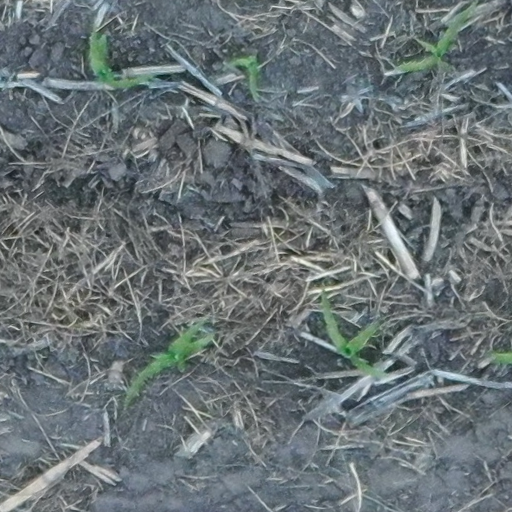planta: (126, 315, 214, 396), (319, 283, 387, 378), (88, 27, 152, 88), (227, 56, 259, 97)
